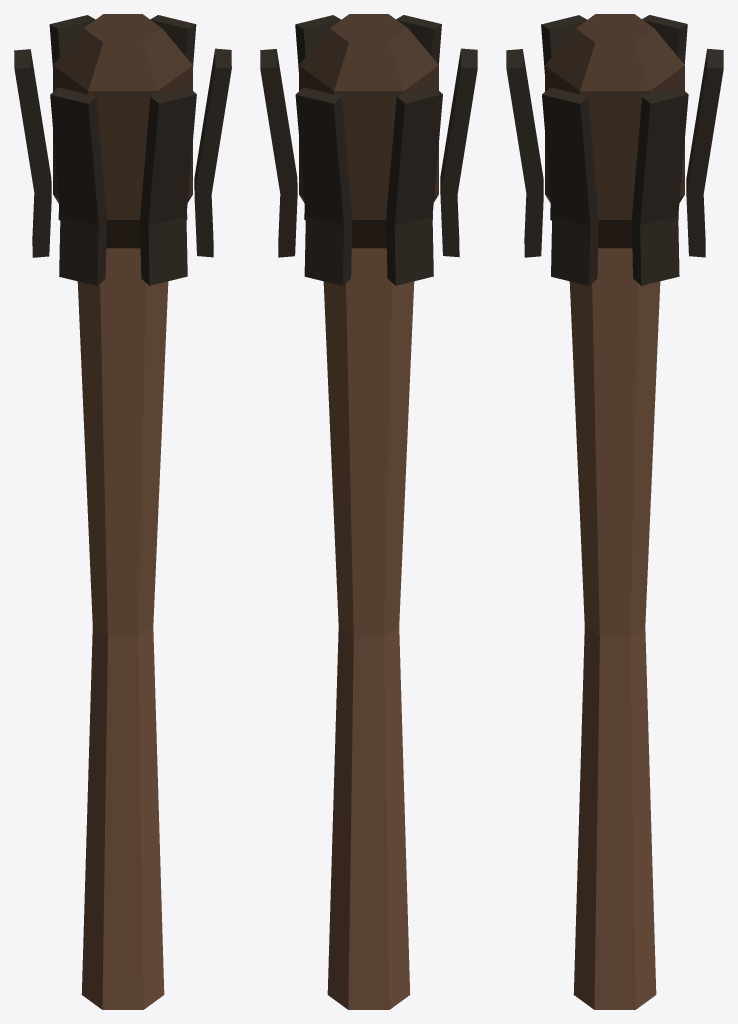
File: Torch.fbx
3 views of the same model, side by side, from view 1: azimuth 30°, elevation 25°; view 2: azimuth 150°, elevation 25°; view 3: azimuth 270°, elevation 25° (orthographic).
Visible parts, largest first — view 1: Torch; view 2: Torch; view 3: Torch.
Part boxes in pixels (x1,y1,x2,y2): Torch: [14, 14, 231, 1009]; Torch: [260, 14, 477, 1009]; Torch: [506, 14, 723, 1009].
Bounding box in the file's own units: 10.29 × 52.04 × 10.62.
